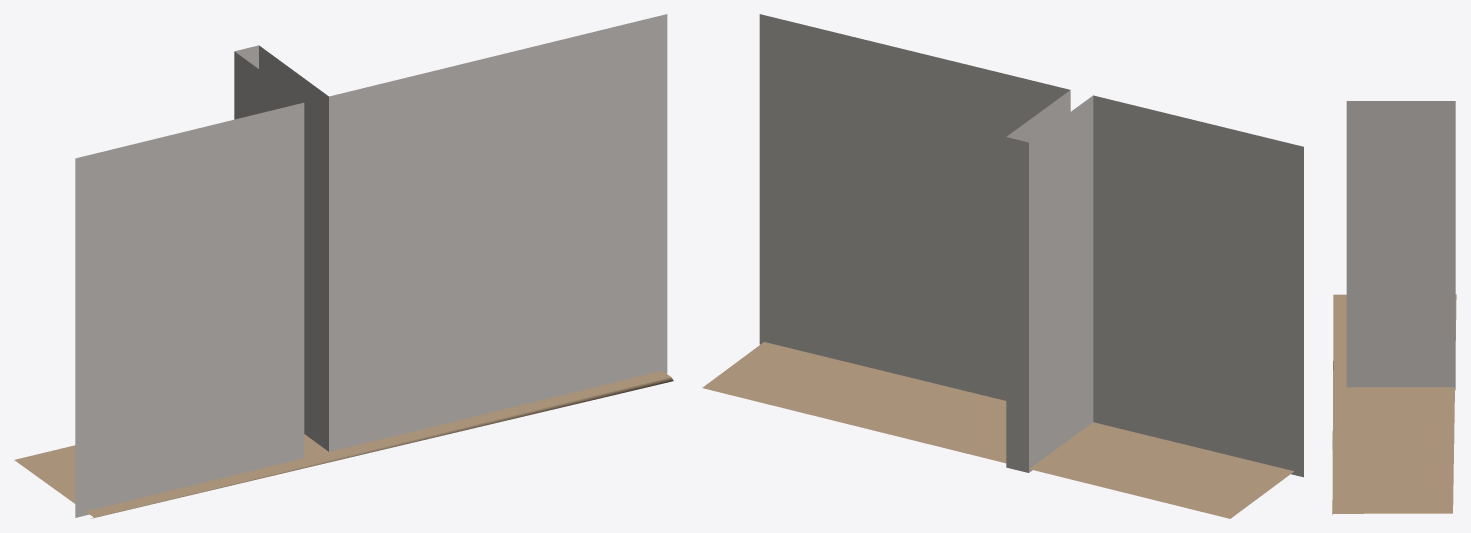
Rendered from background-building.fbx.
The picture shows the model from 3 angles, left to right: view 1: azimuth 30°, elevation 25°; view 2: azimuth 150°, elevation 25°; view 3: azimuth 270°, elevation 25°; orthographic projection. The views are drawn at different scales.
Parts seen in each view (by area): view 1: Cube.011, Cube.010; view 2: Cube.011, Cube.010; view 3: Cube.011, Cube.010.
Boxes of the visible parts, bbox=[...] form: Cube.011: bbox=[75, 14, 667, 517]; Cube.010: bbox=[14, 370, 673, 518]; Cube.011: bbox=[759, 14, 1303, 477]; Cube.010: bbox=[702, 342, 1293, 518]; Cube.011: bbox=[1346, 101, 1455, 390]; Cube.010: bbox=[1332, 294, 1456, 515].
Bounding box in the file's own units: 2155 × 1251 × 503.
